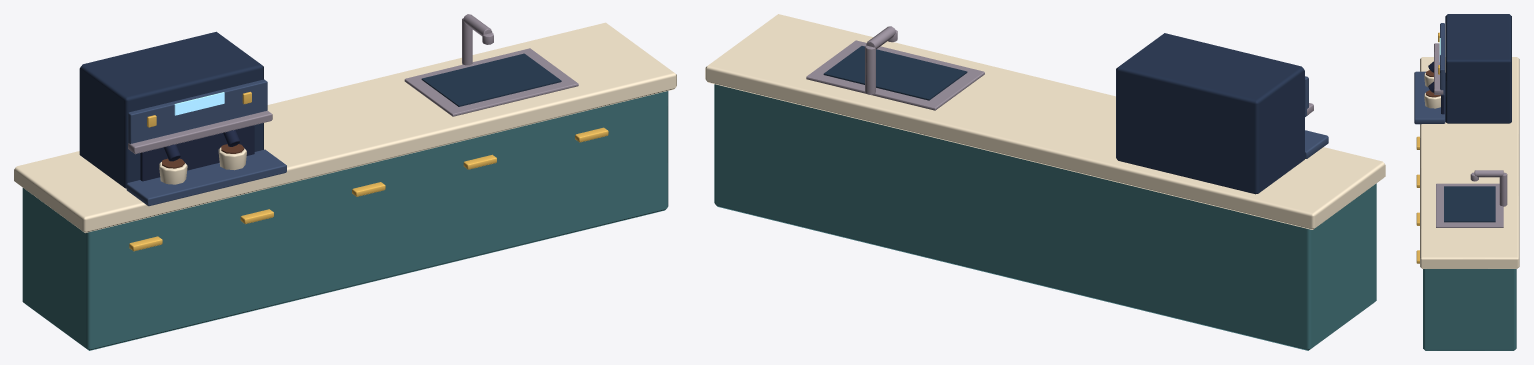
Rendered from pantry_counter.glb.
3 renders of one model, left to right at view 1: azimuth 30°, elevation 25°; view 2: azimuth 150°, elevation 25°; view 3: azimuth 270°, elevation 25°, orthographic. The views are drawn at different scales.
Visible parts, largest first — view 1: pantry_counter; view 2: pantry_counter; view 3: pantry_counter.
Part boxes in pixels (<box>): pantry_counter: <box>14,14,676,350</box>; pantry_counter: <box>705,14,1385,350</box>; pantry_counter: <box>1414,14,1519,350</box>.
Bounding box in the file's own units: 4.8 × 1.77 × 1.06.
